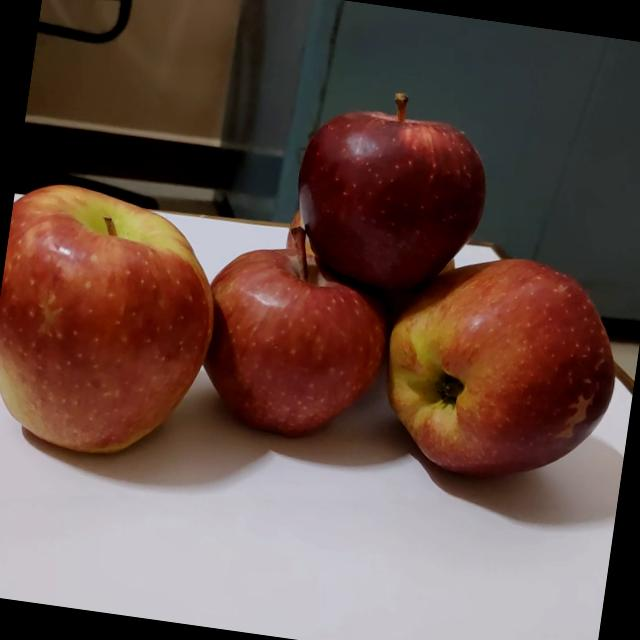apple: (360, 238, 631, 500), (0, 176, 231, 483), (276, 75, 502, 310), (188, 214, 402, 456), (428, 251, 464, 287)
